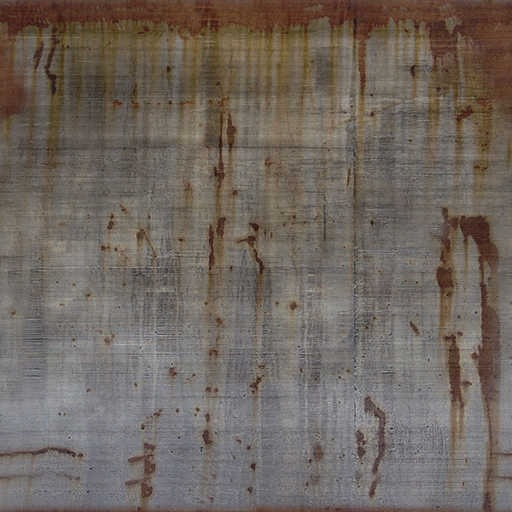rust: (5, 1, 508, 37), (465, 215, 498, 393), (200, 220, 227, 267)
